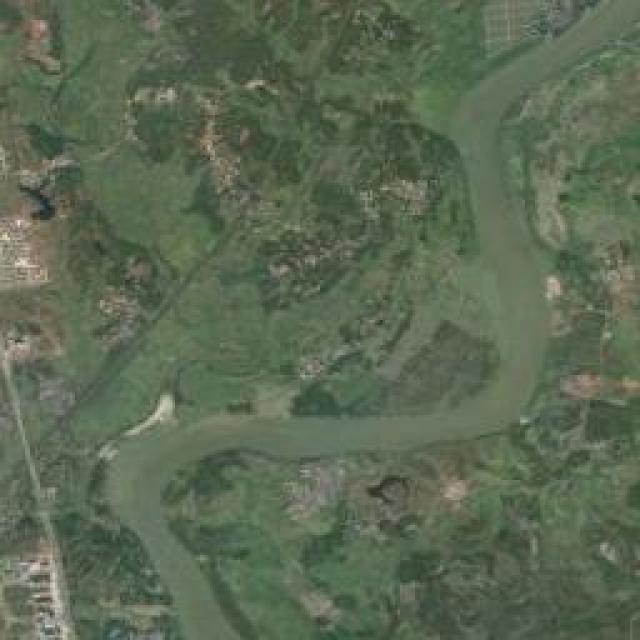Forest: (0, 0, 640, 640)
River: (100, 0, 640, 640)
